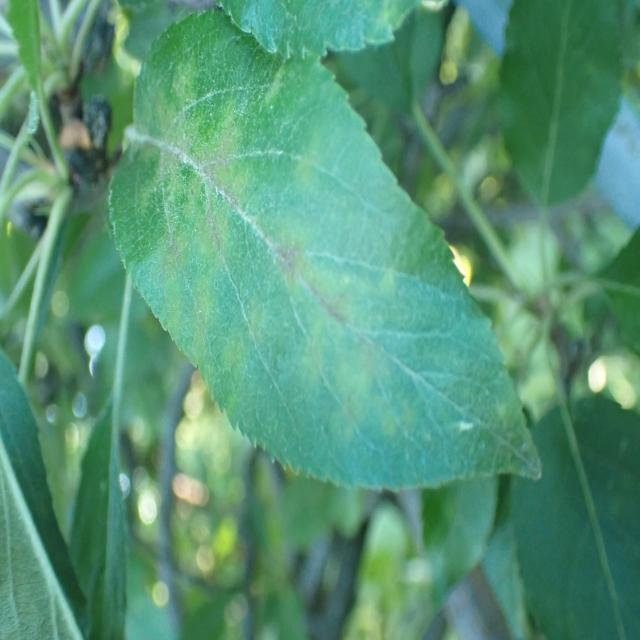scab: (106, 94, 492, 481)
